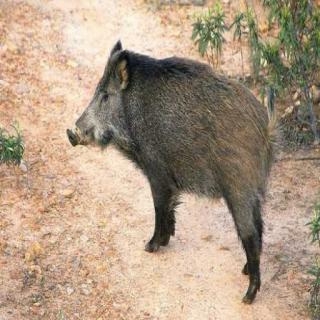Pig: (59, 29, 289, 309)
